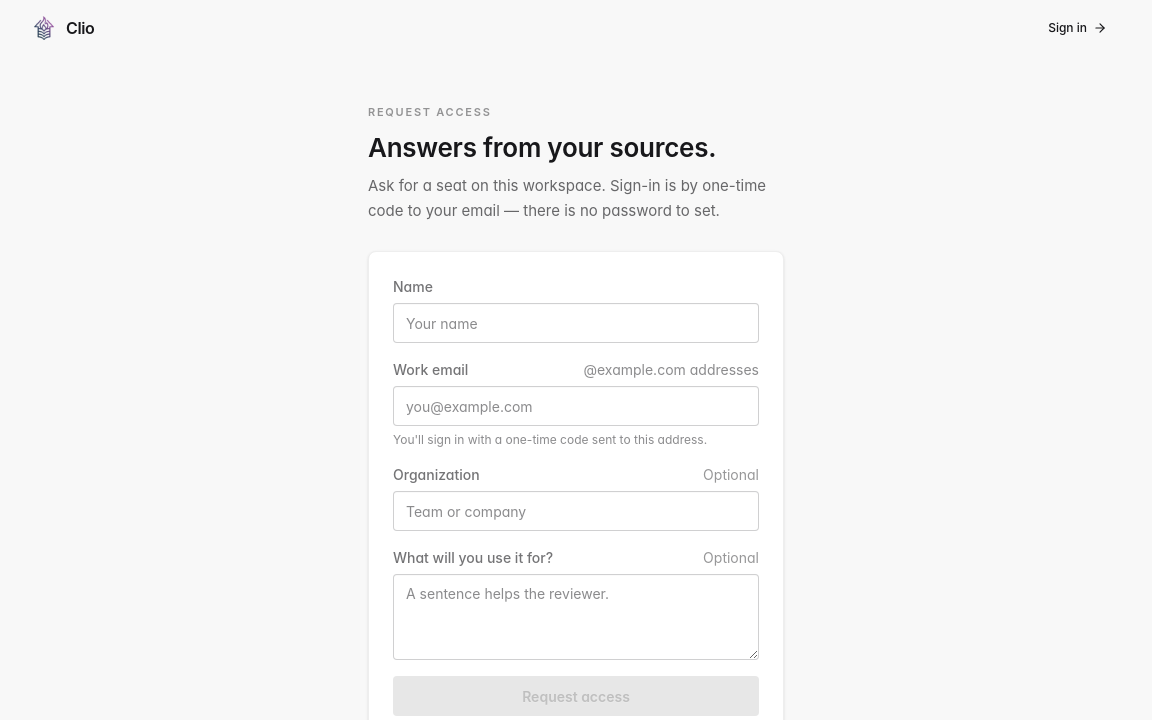
it: RegisterPage › renders the form with the domain hint and submits a request
The image size is (1152, 720).
Expected: the submit button reads "Request access", [393,676,759,716]
Type "Person@Example.com" into the field with id "reg-email" at (576, 406), box [393,386,759,426]
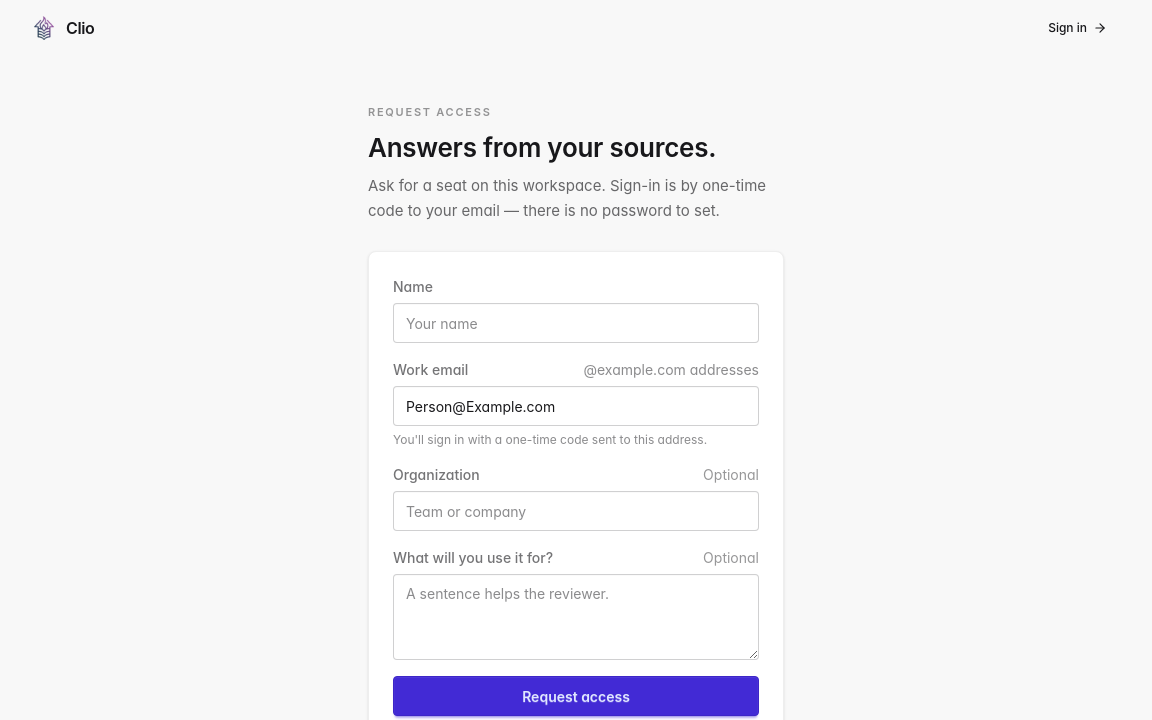
Type "Person" into the field with id "reg-name" at (576, 323), box [393,303,759,343]
(page scrolled)
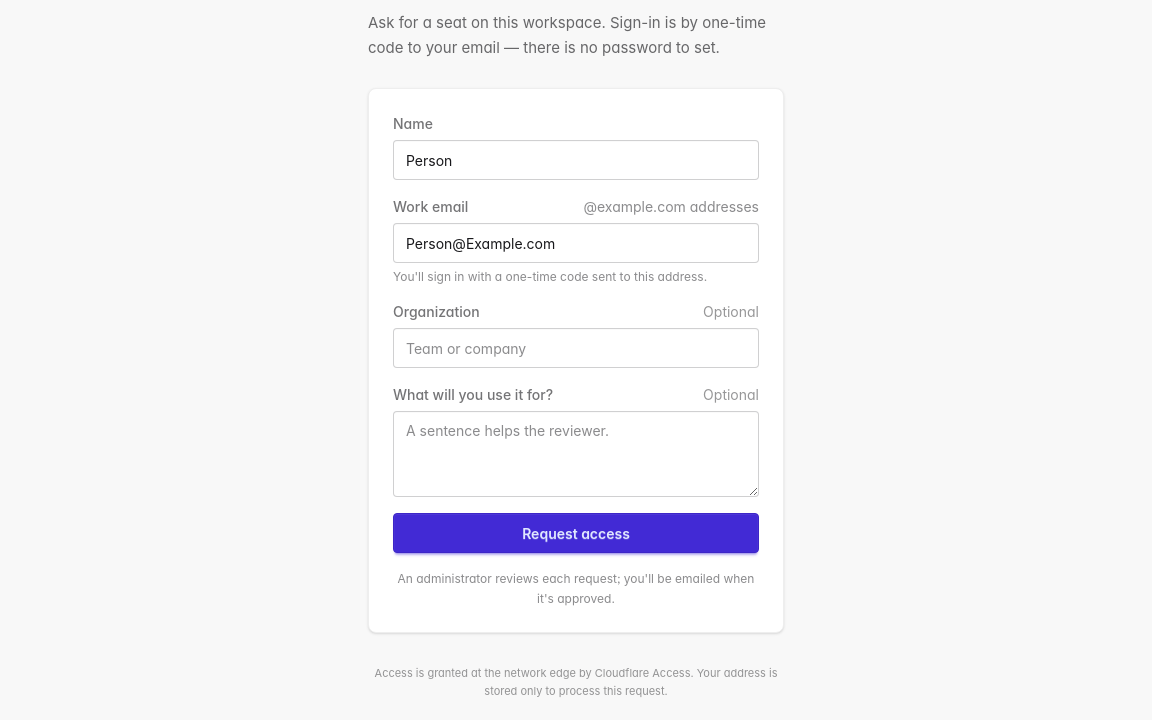
Submit the form, box [368,88,784,633]
(page scrolled)
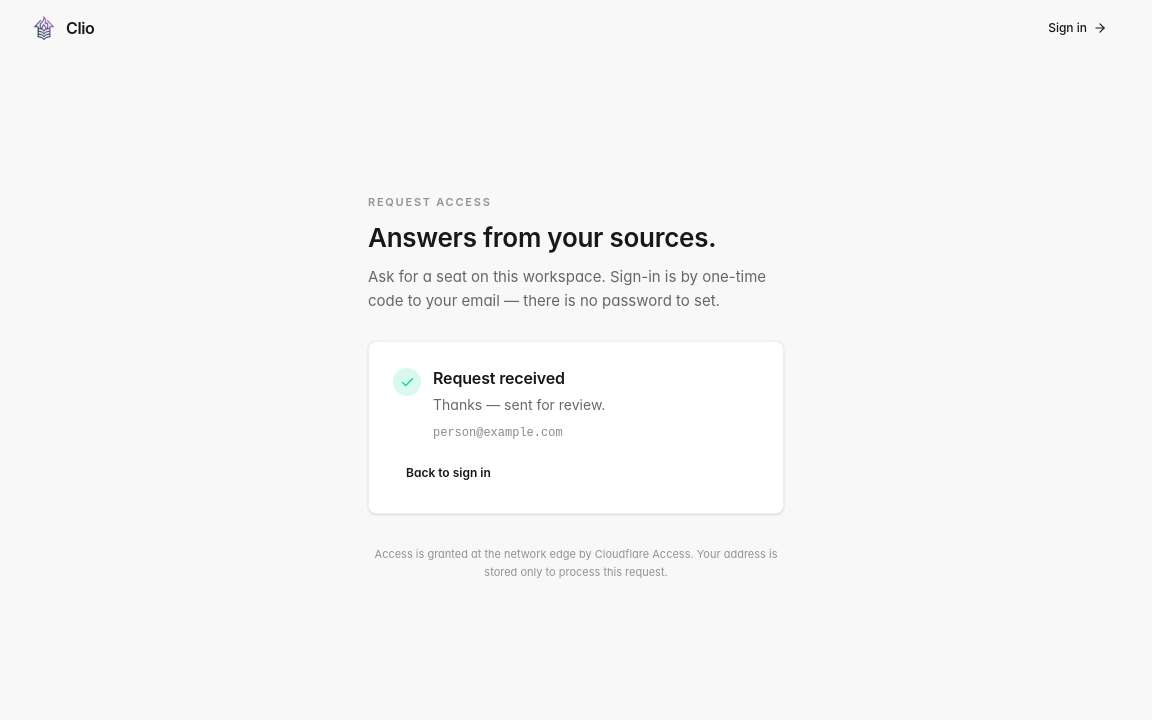
Now the text "Request received" is shown, box [433,368,565,388]
Now the text "sent for review" is shown, box [433,396,605,413]
